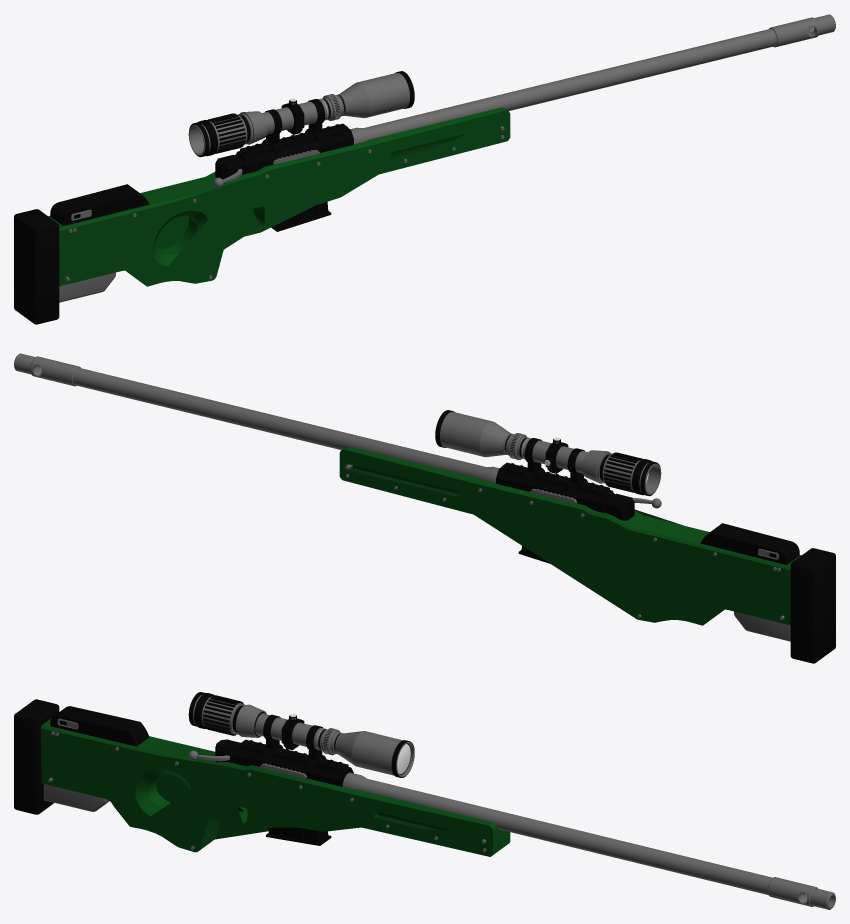
The model's file is uploads_files_2684708_awp 1.fbx.
3 views of the same model, one above another, from view 1: azimuth 30°, elevation 25°; view 2: azimuth 150°, elevation 25°; view 3: azimuth 330°, elevation 25° (orthographic).
Parts seen in each view (by area): view 1: AWP mainbody, barrle, scope_Cylinder.004, back part2, top part, back part1, back part3, handle_Circle.010, magazine; view 2: AWP mainbody, barrle, scope_Cylinder.004, back part2, top part, back part1, back part3, handle_Circle.010; view 3: AWP mainbody, barrle, scope_Cylinder.004, back part2, top part, back part1, back part3, magazine, handle_Circle.010.
Part boxes in pixels (x1,y1,x2,y2): AWP mainbody: [48, 107, 510, 286]; barrle: [350, 14, 835, 144]; scope_Cylinder.004: [188, 71, 414, 157]; back part2: [14, 209, 59, 324]; top part: [215, 123, 353, 179]; back part1: [50, 184, 149, 225]; back part3: [59, 272, 115, 302]; handle_Circle.010: [265, 99, 325, 144]; magazine: [271, 202, 331, 231]; AWP mainbody: [339, 446, 801, 625]; barrle: [14, 353, 499, 483]; scope_Cylinder.004: [435, 410, 661, 496]; back part2: [790, 548, 835, 663]; top part: [496, 462, 634, 520]; back part1: [700, 523, 799, 564]; back part3: [734, 611, 790, 641]; handle_Circle.010: [524, 438, 584, 483]; AWP mainbody: [40, 718, 510, 856]; barrle: [342, 772, 835, 909]; scope_Cylinder.004: [188, 692, 414, 777]; back part2: [14, 699, 59, 814]; top part: [215, 739, 353, 786]; back part1: [50, 706, 149, 746]; back part3: [43, 784, 108, 811]; magazine: [266, 827, 331, 845]; handle_Circle.010: [263, 714, 323, 759].
Bounding box in the file's own units: 8041 × 1452 × 450.
